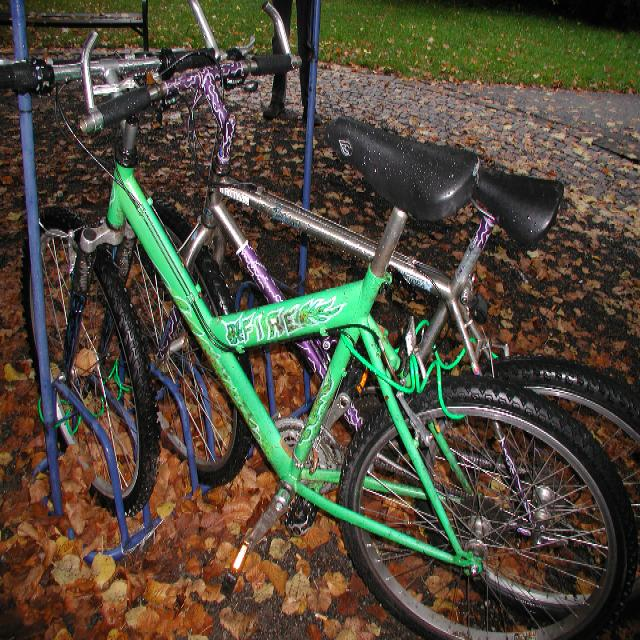bicycle: (36, 27, 638, 637)
